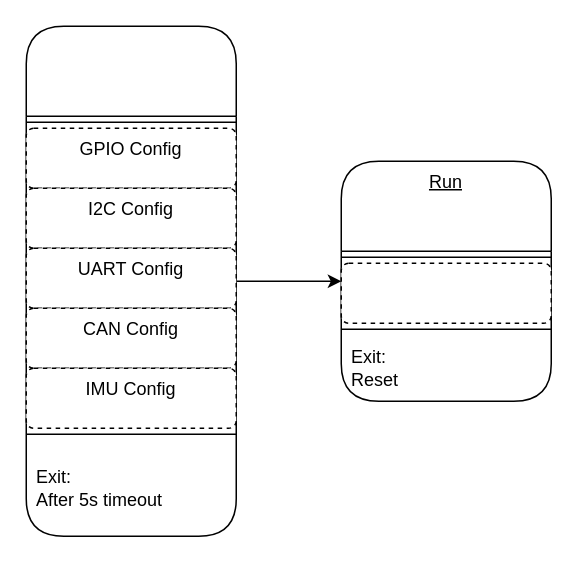
The diagram is 578 pixels wide and 563 high, and some of its shapes have lost their labels. The box of each missing label's shape, as (x1, y1, x2, y2) in pixels:
All SWC swc.step(): (340, 262, 551, 323)
Initialization: (25, 25, 236, 536)
